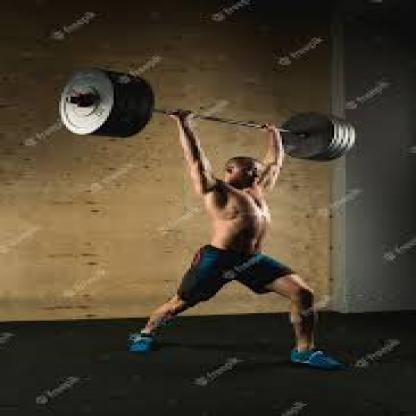Barbell: (62, 93, 76, 108)
